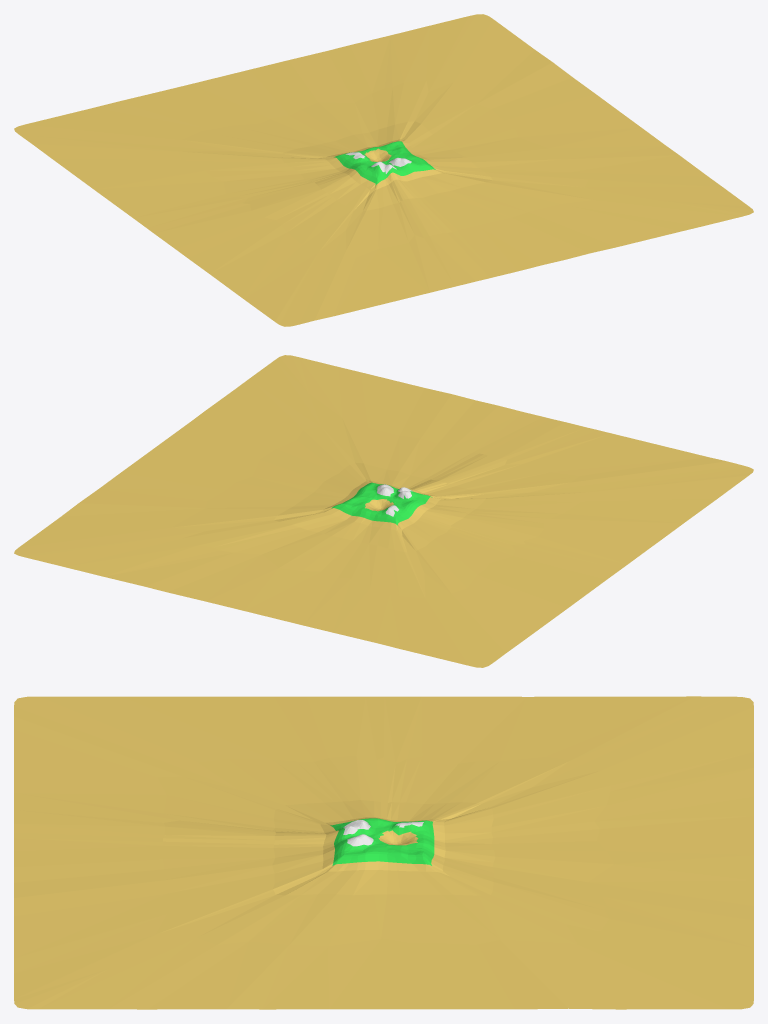
3 renders of one model, top to bottom at view 1: azimuth 30°, elevation 25°; view 2: azimuth 150°, elevation 25°; view 3: azimuth 270°, elevation 25°, orthographic. The views are drawn at different scales.
Visible parts, largest first — view 1: Plane; view 2: Plane; view 3: Plane.
Part boxes in pixels (left/top/right/bottom): Plane: left=14, top=14, right=753, bottom=326; Plane: left=14, top=355, right=753, bottom=667; Plane: left=14, top=696, right=753, bottom=1009.
Bounding box in the file's own units: 85457 × 3004 × 85457.
